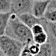cell: (17, 18, 28, 32), (3, 6, 15, 18), (11, 34, 24, 45), (5, 22, 15, 33), (15, 47, 27, 56), (31, 38, 43, 47)
